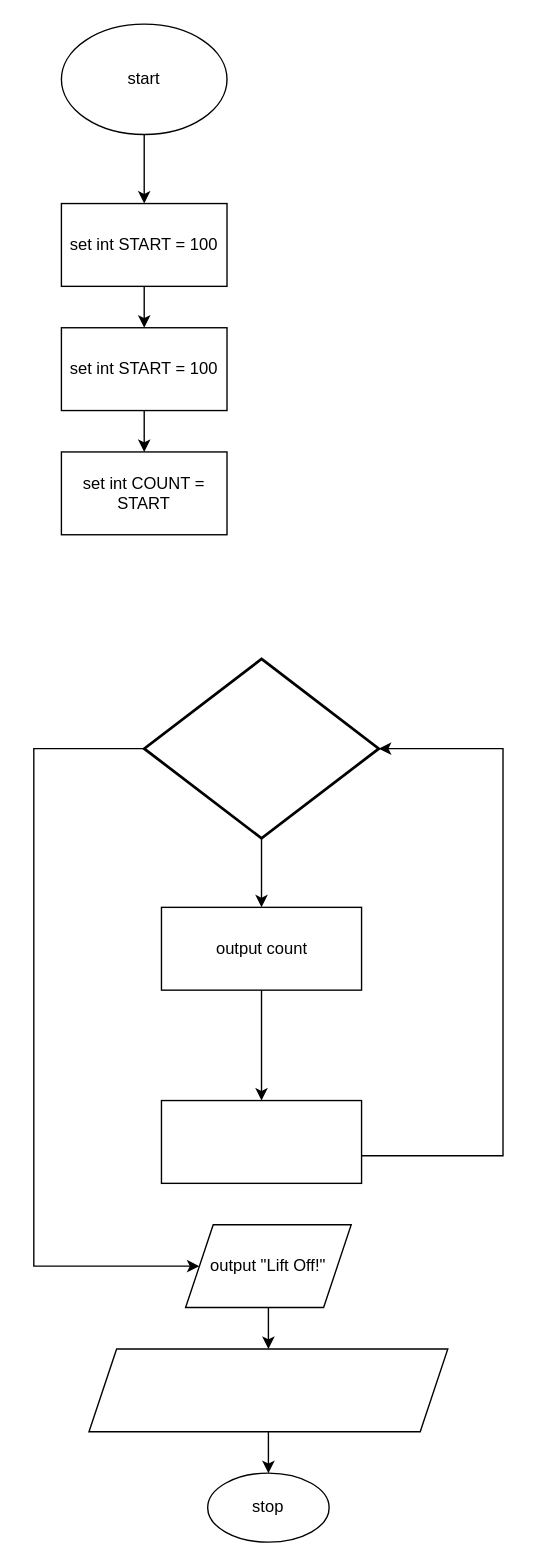
The diagram is 538 pixels wide and 1566 high, and some of its shapes have lost their labels. Here are the shapes that lost their labels. From the top down, the centre of each, then its label:
[260,748]: for count > (STOP - 1)
[261,1141]: count = count + step
[268,1390]: output "Thank you for using our countdown program."
